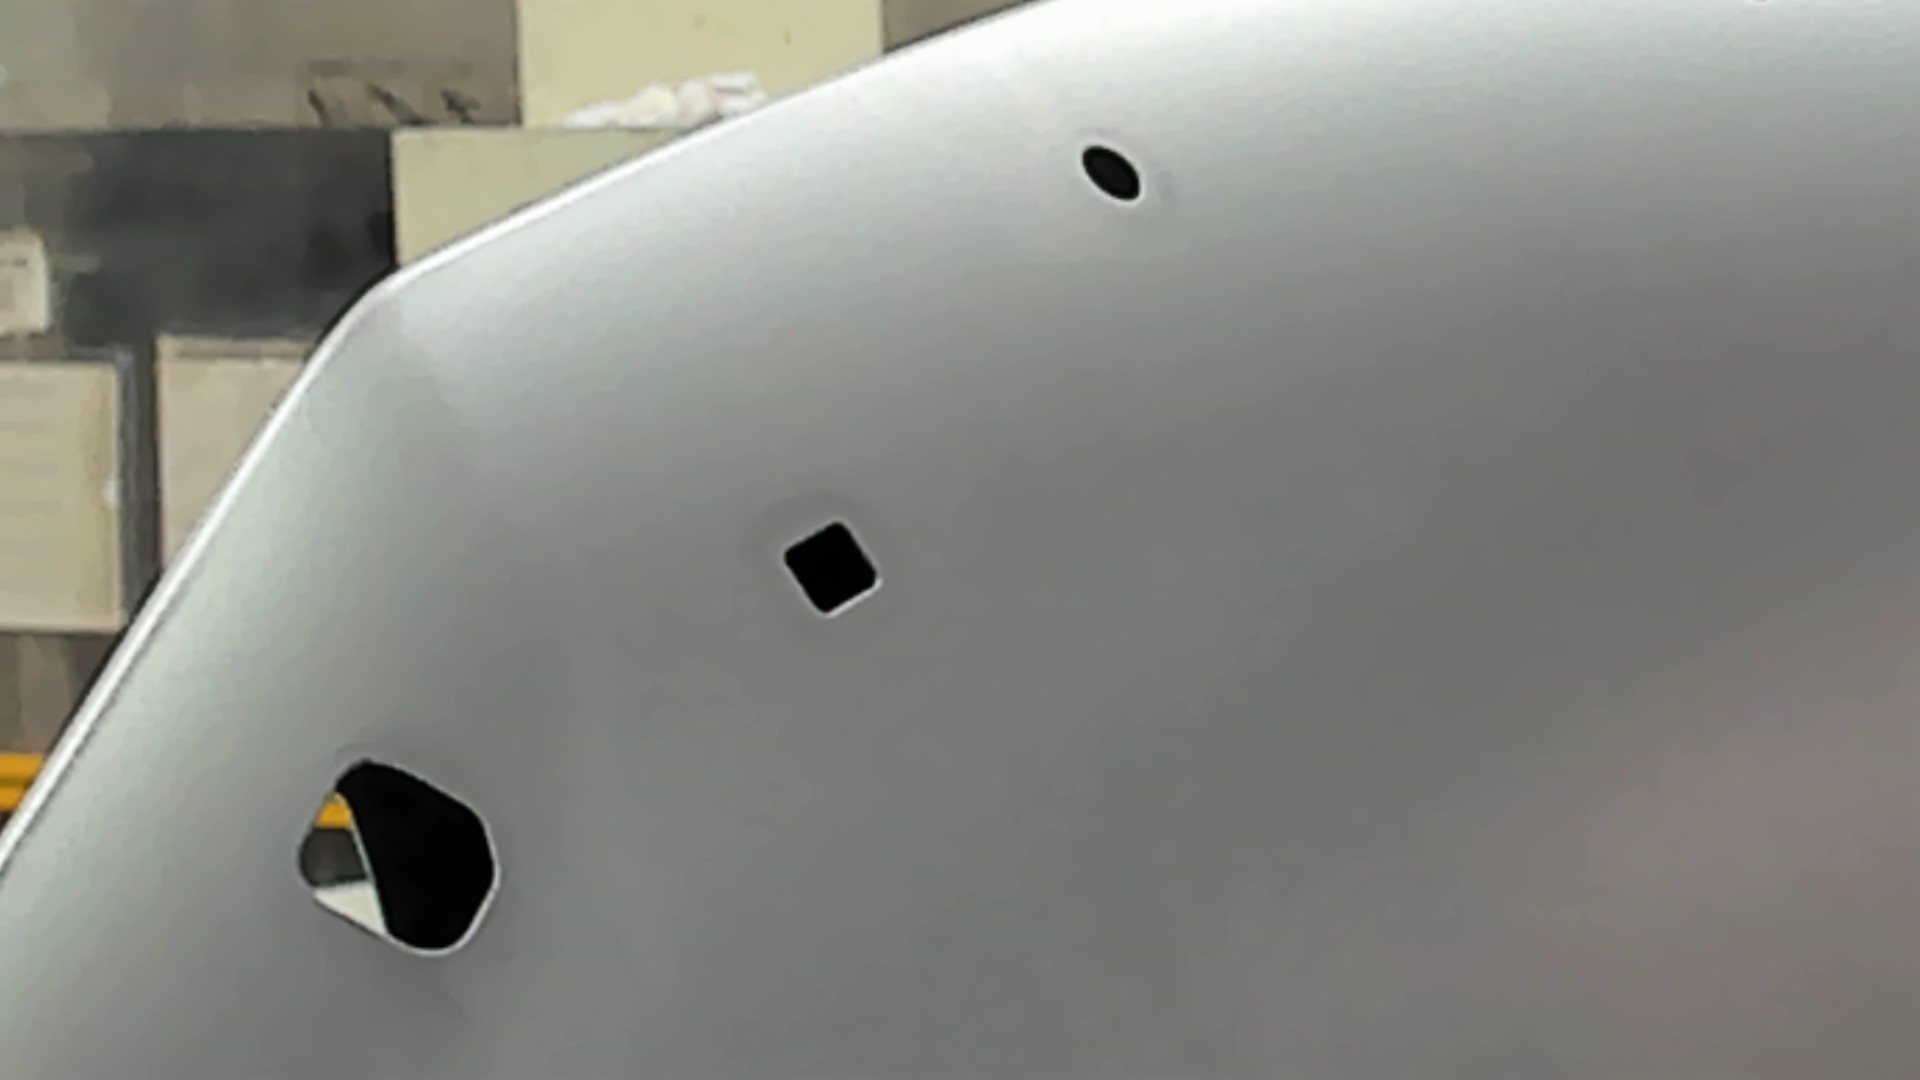chico: (1075, 137, 1147, 206)
grande: (293, 754, 504, 961)
mediano: (774, 521, 884, 618)
